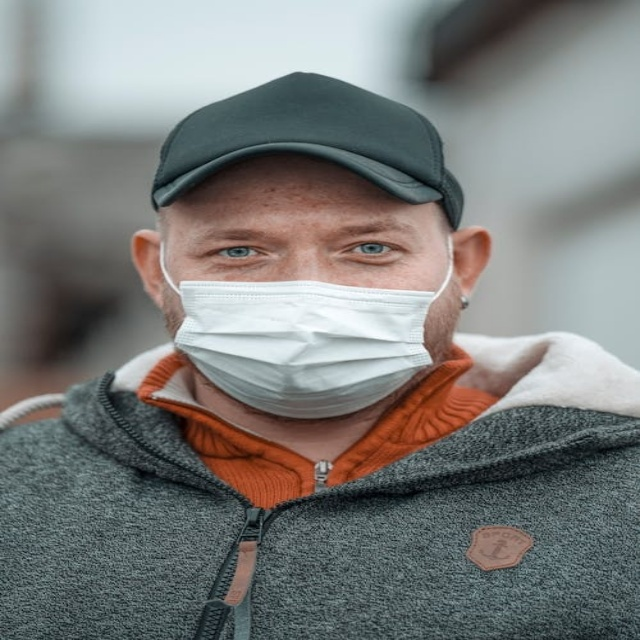Mascara: (164, 234, 452, 417)
Sin_gafas: (177, 216, 426, 273)
